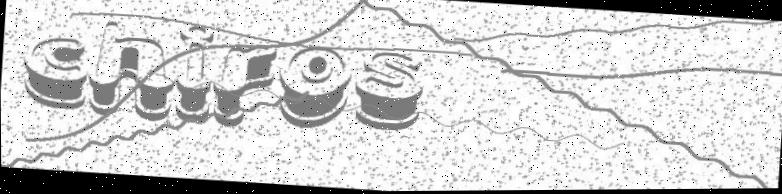c: (20, 34, 90, 111)
h: (85, 18, 178, 123)
i: (173, 24, 215, 124)
o: (275, 44, 353, 132)
r: (209, 42, 278, 131)
s: (350, 49, 425, 134)
